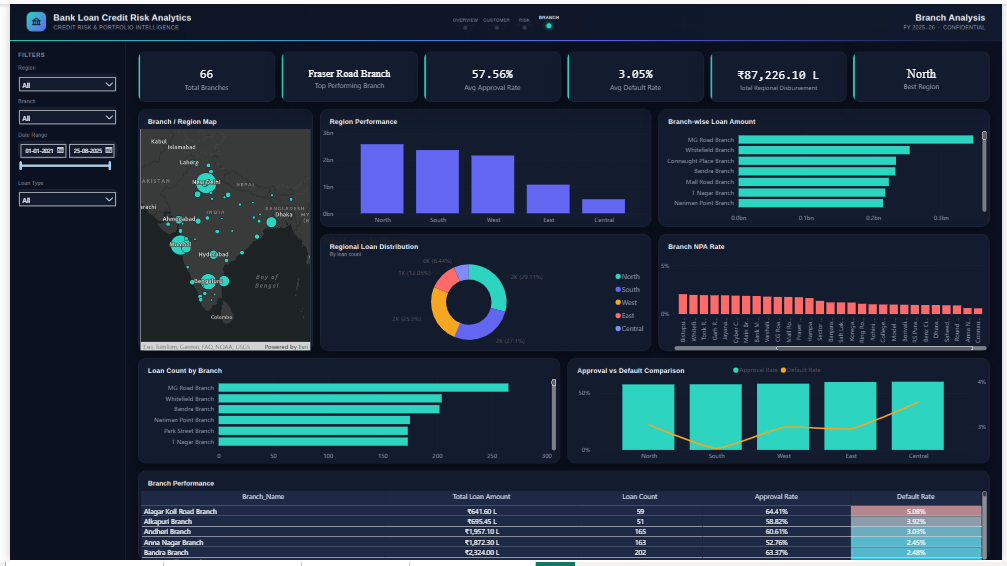

The page's visual inventory and layout, read from the dashboard file:
{"tool":"powerbi","page":{"name":"Branch Analysis","canvas":[1920,1080],"ordinal":3},"visuals":[{"type":"cardVisual","fields":{"Data":["_Measures.Total Branches"]},"box":[248,96,265,97],"z":0},{"type":"cardVisual","fields":{"Data":["_Measures.Best Region"]},"box":[1631,96,265,97],"z":1000},{"type":"cardVisual","fields":{"Data":["_Measures.Top Performing Branch"]},"box":[525,96,265,97],"z":2000},{"type":"cardVisual","fields":{"Data":["_Measures.Avg Default Rate"]},"box":[1078,96,265,97],"z":3000},{"type":"cardVisual","fields":{"Data":["_Measures.Avg Approval Rate"]},"box":[801,96,265,97],"z":4000},{"type":"cardVisual","fields":{"Data":["_Measures.Total Loan Amount Display"]},"box":[1355,96,265,97],"z":5000},{"type":"esriVisual","title":".","fields":{"Size":["_Measures.Total Loan Amount"],"Location":["Branches.Location"]},"box":[248,207,338,468],"z":6000},{"type":"clusteredColumnChart","title":".","fields":{"Category":["Branches.Region"],"Y":["_Measures.Total Loan Amount"]},"box":[600,207,641,228],"z":7000},{"type":"clusteredBarChart","title":".","fields":{"Category":["Branches.Branch_Name"],"Y":["_Measures.Total Loan Amount"]},"box":[1255,207,641,224],"z":8000},{"type":"donutChart","fields":{"Category":["Branches.Region"],"Y":["_Measures.Total Loans"]},"box":[600,449,641,226],"z":9000},{"type":"clusteredColumnChart","title":".","fields":{"Category":["Branches.Branch_Name"],"Y":["_Measures.NPA Rate"]},"box":[1255,449,641,226],"z":10000},{"type":"clusteredBarChart","title":".","fields":{"Category":["Branches.Branch_Name"],"Y":["_Measures.Total Loans"]},"box":[248,689,814,204],"z":11000},{"type":"lineClusteredColumnComboChart","title":".","fields":{"Category":["Branches.Region"],"Y2":["_Measures.Default Rate"],"Y":["_Measures.Approval Rate"]},"box":[1079,689,817,204],"z":12000},{"type":"tableEx","title":".","fields":{"Values":["Branches.Branch_Name","_Measures.Total Loan Amount Display","_Measures.Total Loans","_Measures.Approval Rate","_Measures.Default Rate"]},"box":[248,907,1648,173],"z":13000},{"type":"slicer","fields":{"Values":["Branches.Branch_Name"]},"box":[8,196,207,50],"z":14000},{"type":"slicer","fields":{"Values":["Branches.Region"]},"box":[8,132,207,50],"z":15000},{"type":"slicer","fields":{"Values":["Loan_Type.Loan_Type_Name"]},"box":[8,355,207,50],"z":16000},{"type":"slicer","fields":{"Values":["Calendar.Date"]},"box":[8,262,216,72],"z":17000}]}

Visuals, with their boxes on the page's 1920x1080 design canvas (x1, y1, x2, y2). These are canvas units, not pixel positions in the 1007x566 screenshot, which may show the page scaled, cropped or inside an application window:
cardVisual - _Measures.Total Branches: detection(248, 96, 513, 193)
cardVisual - _Measures.Best Region: detection(1631, 96, 1896, 193)
cardVisual - _Measures.Top Performing Branch: detection(525, 96, 790, 193)
cardVisual - _Measures.Avg Default Rate: detection(1078, 96, 1343, 193)
cardVisual - _Measures.Avg Approval Rate: detection(801, 96, 1066, 193)
cardVisual - _Measures.Total Loan Amount Display: detection(1355, 96, 1620, 193)
"." esriVisual: detection(248, 207, 586, 675)
"." clusteredColumnChart: detection(600, 207, 1241, 435)
"." clusteredBarChart: detection(1255, 207, 1896, 431)
donutChart - Branches.Region x _Measures.Total Loans: detection(600, 449, 1241, 675)
"." clusteredColumnChart: detection(1255, 449, 1896, 675)
"." clusteredBarChart: detection(248, 689, 1062, 893)
"." lineClusteredColumnComboChart: detection(1079, 689, 1896, 893)
"." tableEx: detection(248, 907, 1896, 1080)
slicer - Branches.Branch_Name: detection(8, 196, 215, 246)
slicer - Branches.Region: detection(8, 132, 215, 182)
slicer - Loan_Type.Loan_Type_Name: detection(8, 355, 215, 405)
slicer - Calendar.Date: detection(8, 262, 224, 334)
